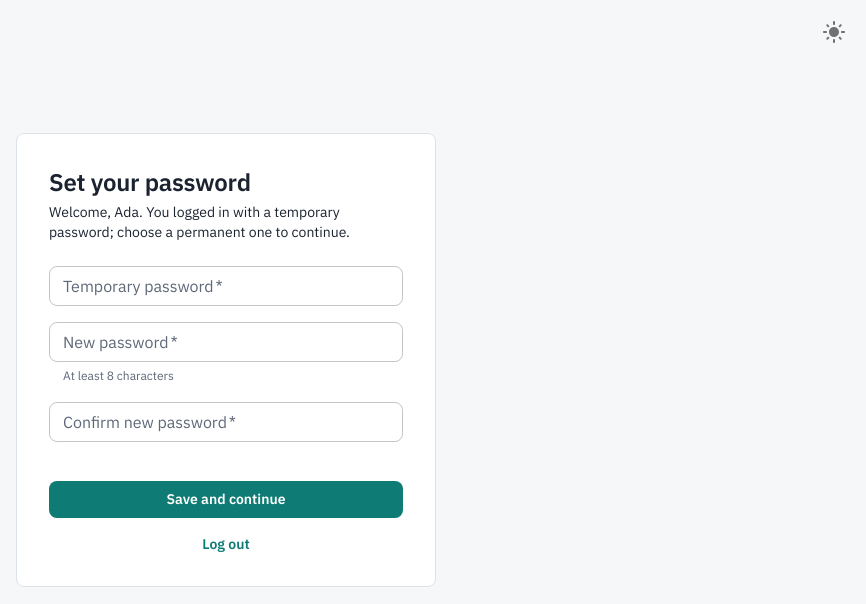
Test case: light and dark mode › the set-password screen offers the choice too
Expected: the heading "Set your password" is shown, [49,166,251,198]
Click the button named "Appearance" at (834, 32), box [814,12,854,52]
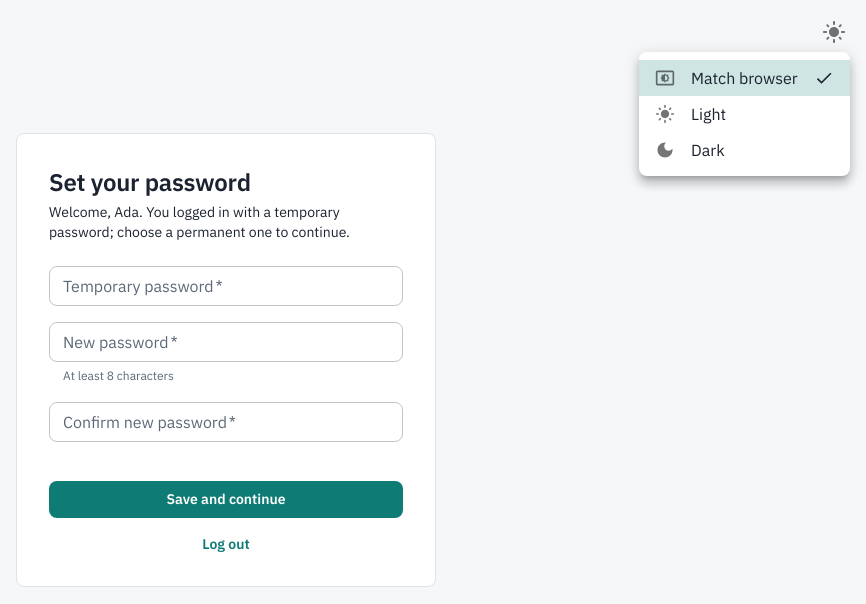
Click the menu item "Light" at (691, 114), box [655,104,726,124]
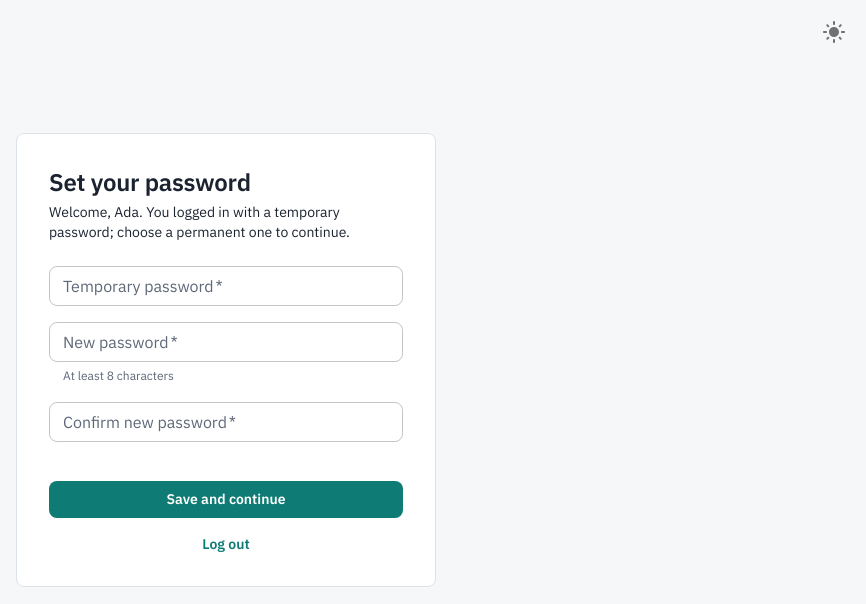
Expected: the menu is gone
